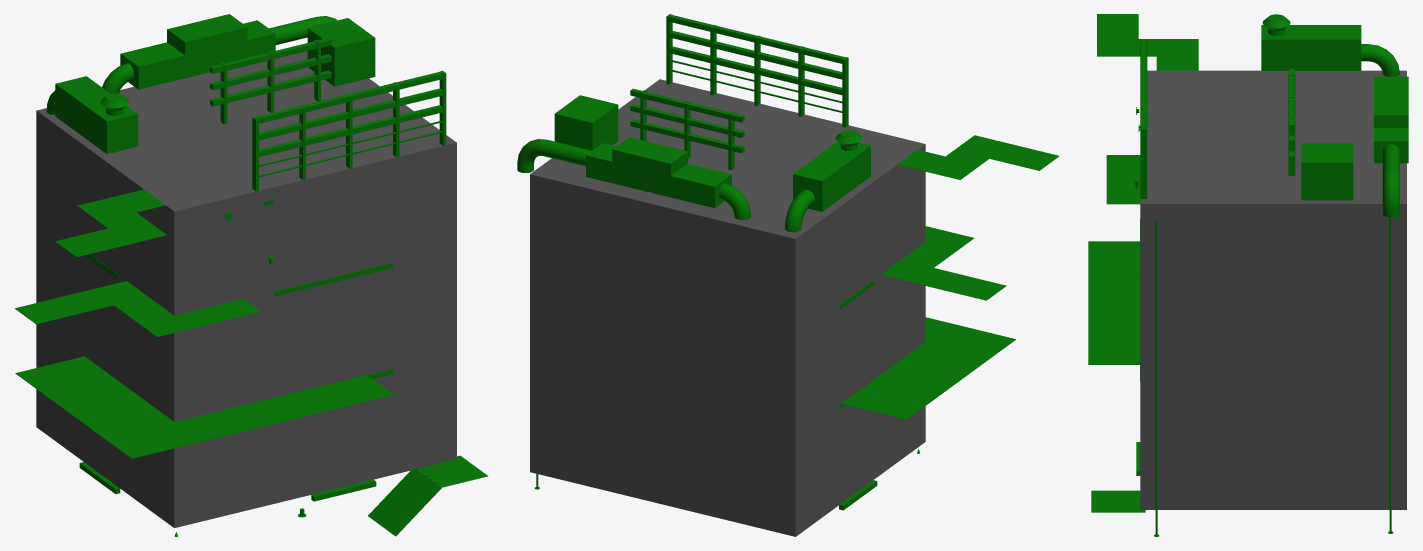
File: Image-1710907554885-2281405516464_HCM.fbx
3 renders of one model, left to right at view 1: azimuth 30°, elevation 25°; view 2: azimuth 150°, elevation 25°; view 3: azimuth 270°, elevation 25°, orthographic. The views are drawn at different scales.
Parts seen in each view (by area): view 1: BOX 1 of EQUIPMENT /HCM, BOX 2 of EQUIPMENT /HCM, BOX 3 of EQUIPMENT /HCM, BOX 13 of EQUIPMENT /HCM, BOX 15 of EQUIPMENT /HCM, BOX 2 of SUBEQUIPMENT /HCM/AHU_SUPPLY, BOX 1 of SUBEQUIPMENT /HCM/AHU_EXTRACT, BOX 1 of SUBEQUIPMENT /HCM/AHU_COOLER, BOX 12 of EQUIPMENT /HCM, BOX 1 of SUBEQUIPMENT /HCM/AHU_SUPPLY, BOX 16 of EQUIPMENT /HCM, BOX 20 of EQUIPMENT /HCM (+14 smaller); view 2: BOX 1 of EQUIPMENT /HCM, BOX 2 of EQUIPMENT /HCM, BOX 3 of EQUIPMENT /HCM, BOX 15 of EQUIPMENT /HCM, BOX 2 of SUBEQUIPMENT /HCM/AHU_SUPPLY, BOX 1 of SUBEQUIPMENT /HCM/AHU_EXTRACT, BOX 1 of SUBEQUIPMENT /HCM/AHU_COOLER, BOX 13 of EQUIPMENT /HCM, BOX 1 of SUBEQUIPMENT /HCM/AHU_SUPPLY, BOX 20 of EQUIPMENT /HCM, BOX 10 of SUBEQUIPMENT /BUMPERS_NORTH, BOX 18 of EQUIPMENT /HCM (+12 smaller); view 3: BOX 1 of EQUIPMENT /HCM, BOX 2 of EQUIPMENT /HCM, BOX 3 of EQUIPMENT /HCM, BOX 13 of EQUIPMENT /HCM, BOX 1 of SUBEQUIPMENT /HCM/AHU_EXTRACT, BOX 1 of SUBEQUIPMENT /HCM/AHU_COOLER, BOX 16 of EQUIPMENT /HCM, BOX 1 of SUBEQUIPMENT /HCM/AHU_SUPPLY, BOX 22 of EQUIPMENT /HCM, BOX 2 of SUBEQUIPMENT /HCM/AHU_SUPPLY, BOX 10 of EQUIPMENT /HCM, BOX 23 of EQUIPMENT /HCM (+8 smaller).
Boxes of the visible parts, x1,y1,x2,y2 form: BOX 1 of EQUIPMENT /HCM: (36, 51, 456, 315); BOX 2 of EQUIPMENT /HCM: (36, 215, 456, 421); BOX 3 of EQUIPMENT /HCM: (36, 323, 456, 527); BOX 13 of EQUIPMENT /HCM: (102, 375, 393, 458); BOX 15 of EQUIPMENT /HCM: (15, 356, 171, 436); BOX 2 of SUBEQUIPMENT /HCM/AHU_SUPPLY: (120, 20, 275, 89); BOX 1 of SUBEQUIPMENT /HCM/AHU_EXTRACT: (55, 76, 138, 153); BOX 1 of SUBEQUIPMENT /HCM/AHU_COOLER: (307, 18, 375, 86); BOX 12 of EQUIPMENT /HCM: (368, 469, 441, 536); BOX 1 of SUBEQUIPMENT /HCM/AHU_SUPPLY: (167, 14, 247, 55); BOX 16 of EQUIPMENT /HCM: (137, 299, 261, 336); BOX 20 of EQUIPMENT /HCM: (14, 289, 113, 324); BOX 1 of EQUIPMENT /HCM: (530, 79, 925, 337); BOX 2 of EQUIPMENT /HCM: (530, 272, 925, 436); BOX 3 of EQUIPMENT /HCM: (530, 372, 925, 536); BOX 15 of EQUIPMENT /HCM: (841, 344, 988, 419); BOX 2 of SUBEQUIPMENT /HCM/AHU_SUPPLY: (586, 143, 731, 208); BOX 1 of SUBEQUIPMENT /HCM/AHU_EXTRACT: (793, 141, 870, 211); BOX 1 of SUBEQUIPMENT /HCM/AHU_COOLER: (554, 95, 618, 150); BOX 13 of EQUIPMENT /HCM: (923, 317, 1015, 359); BOX 1 of SUBEQUIPMENT /HCM/AHU_SUPPLY: (612, 137, 687, 175); BOX 20 of EQUIPMENT /HCM: (913, 268, 1006, 300); BOX 10 of SUBEQUIPMENT /BUMPERS_NORTH: (668, 14, 846, 63); BOX 18 of EQUIPMENT /HCM: (881, 244, 954, 282); BOX 1 of EQUIPMENT /HCM: (1140, 70, 1406, 304); BOX 2 of EQUIPMENT /HCM: (1140, 304, 1406, 407); BOX 3 of EQUIPMENT /HCM: (1140, 407, 1406, 509); BOX 13 of EQUIPMENT /HCM: (1088, 241, 1140, 364); BOX 1 of SUBEQUIPMENT /HCM/AHU_EXTRACT: (1261, 25, 1361, 70); BOX 1 of SUBEQUIPMENT /HCM/AHU_COOLER: (1301, 143, 1353, 200); BOX 16 of EQUIPMENT /HCM: (1106, 155, 1140, 204); BOX 1 of SUBEQUIPMENT /HCM/AHU_SUPPLY: (1374, 86, 1408, 127); BOX 22 of EQUIPMENT /HCM: (1156, 39, 1198, 70); BOX 2 of SUBEQUIPMENT /HCM/AHU_SUPPLY: (1374, 76, 1408, 163); BOX 10 of EQUIPMENT /HCM: (1091, 490, 1145, 512); BOX 23 of EQUIPMENT /HCM: (1097, 14, 1138, 38).
Bounding box in the file's own units: 13.56 × 9.21 × 13.05.
